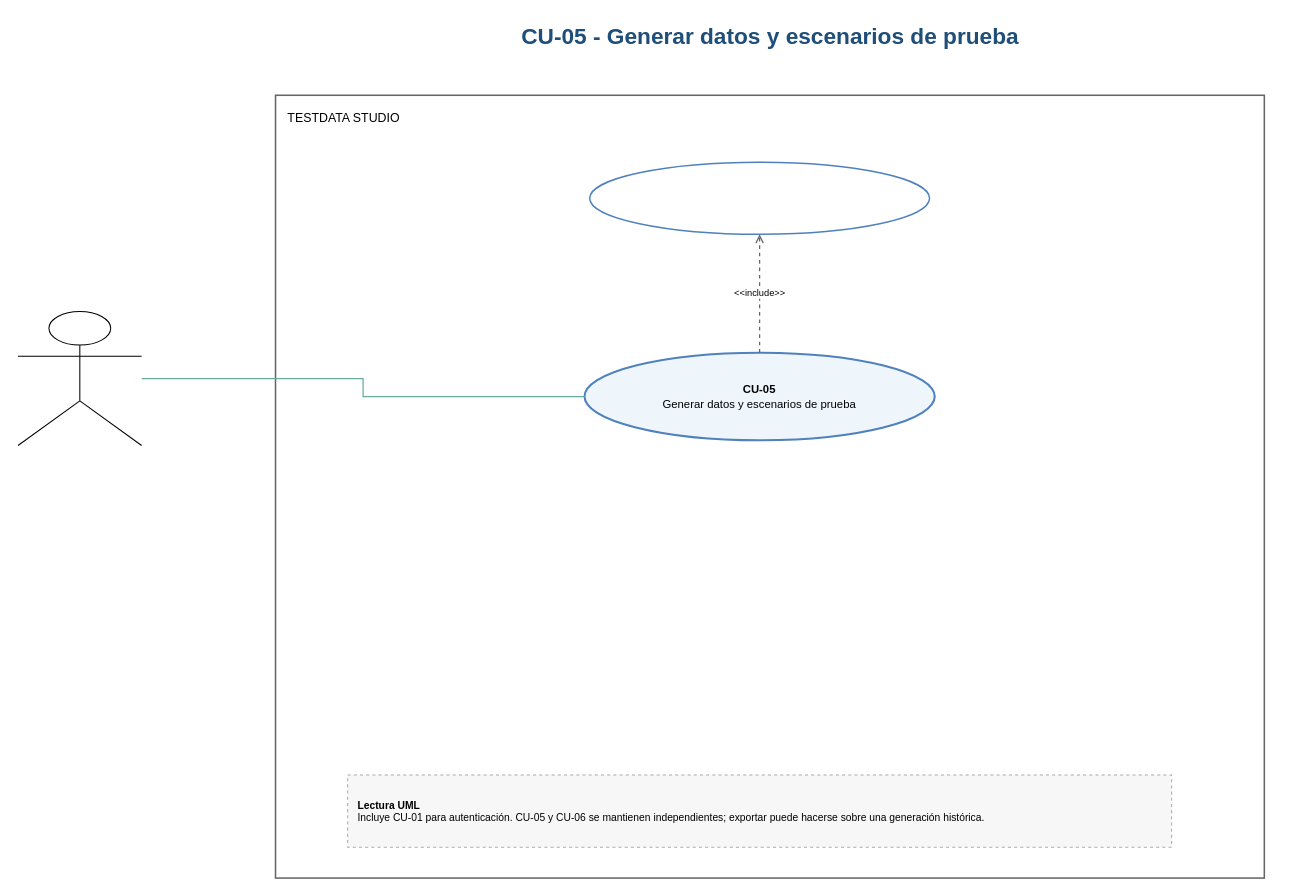
Image size: 1303x896. Some labels were removed from this diagram. The shapes that lost their labels are listed below. From the top down, each one's box as (x1, y1, x2, y2) in pixels, then its label:
(588, 161, 930, 235): CU-01 Iniciar sesión
(17, 311, 142, 445): Analista/Tester
